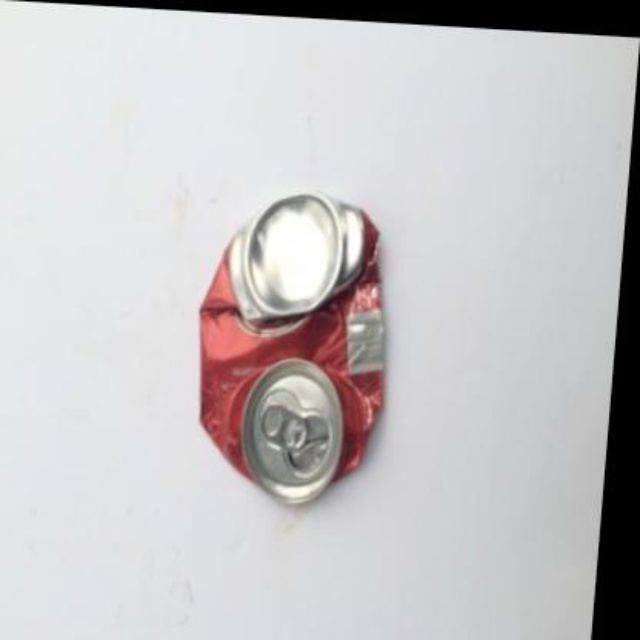trash: (200, 194, 383, 502)
